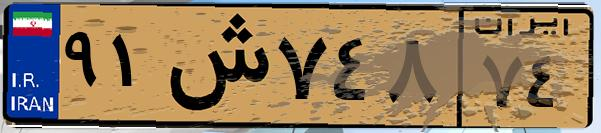1: (110, 28, 158, 98)
4: (330, 28, 385, 110), (525, 38, 570, 115)
7: (270, 28, 330, 110), (475, 38, 525, 113)
8: (385, 28, 445, 110)
9: (57, 26, 110, 100)
ش: (158, 12, 270, 120)
